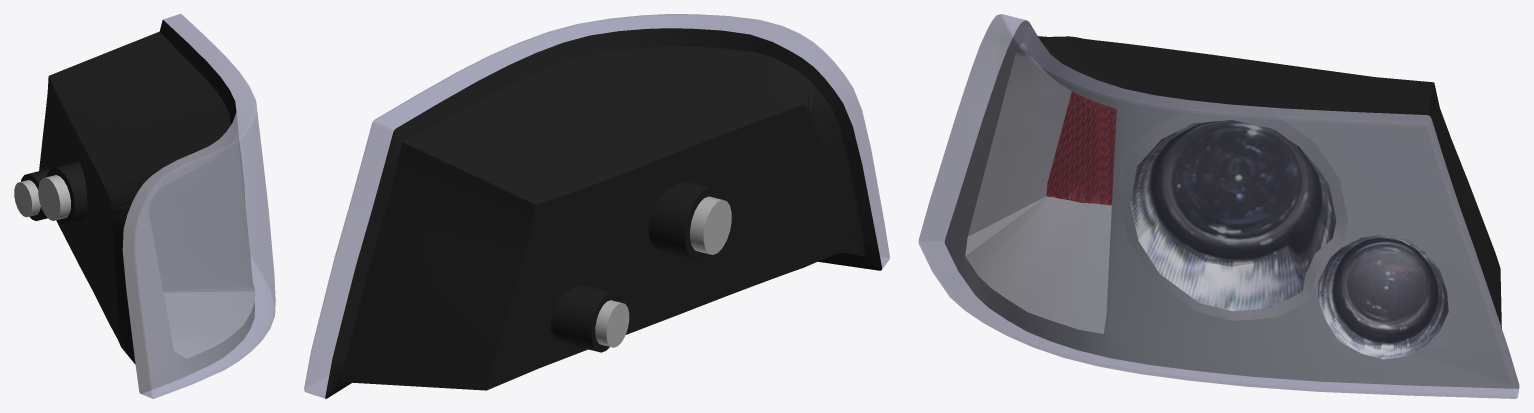
3 views of the same model, side by side, from view 1: azimuth 30°, elevation 25°; view 2: azimuth 150°, elevation 25°; view 3: azimuth 270°, elevation 25° (orthographic). The views are drawn at different scales.
Visible parts, largest first — view 1: P845_061B_R_P845_061B_R_6_DTaSI, P845_061B_R_P845_061B_R_5_D, P845_061B_R_1_DaS_P845_061B_R; view 2: P845_061B_R_P845_061B_R_5_D, P845_061B_R_P845_061B_R_6_DTaSI, P845_061B_R_1_DaS_P845_061B_R; view 3: P845_061B_R_P845_061B_R_6_DTaSI, P845_061B_R_1_DaS_P845_061B_R, P845_061B_R_P845_061B_R_2_N, P845_061B_R_P845_061B_R_5_D, P845_061B_R_P845_061B_R_3_N, P845_061B_R_P845_061B_R_4_N.
Boxes of the visible parts, x1,y1,x2,y2 form: P845_061B_R_P845_061B_R_6_DTaSI: (123,14,275,398); P845_061B_R_P845_061B_R_5_D: (21,20,236,364); P845_061B_R_1_DaS_P845_061B_R: (14,112,255,393); P845_061B_R_P845_061B_R_5_D: (325,28,881,398); P845_061B_R_P845_061B_R_6_DTaSI: (304,14,889,398); P845_061B_R_1_DaS_P845_061B_R: (595,196,731,347); P845_061B_R_P845_061B_R_6_DTaSI: (918,14,1519,398); P845_061B_R_1_DaS_P845_061B_R: (944,20,1519,388); P845_061B_R_P845_061B_R_2_N: (1130,120,1336,311); P845_061B_R_P845_061B_R_5_D: (1038,36,1501,328); P845_061B_R_P845_061B_R_3_N: (1318,235,1448,359); P845_061B_R_P845_061B_R_4_N: (1046,92,1116,205).
Size of the model in its own units: 31.09 by 24.19 by 49.58.
